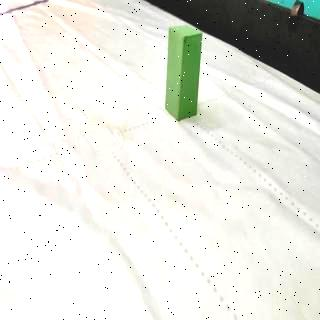greenbox: (164, 23, 204, 122)
